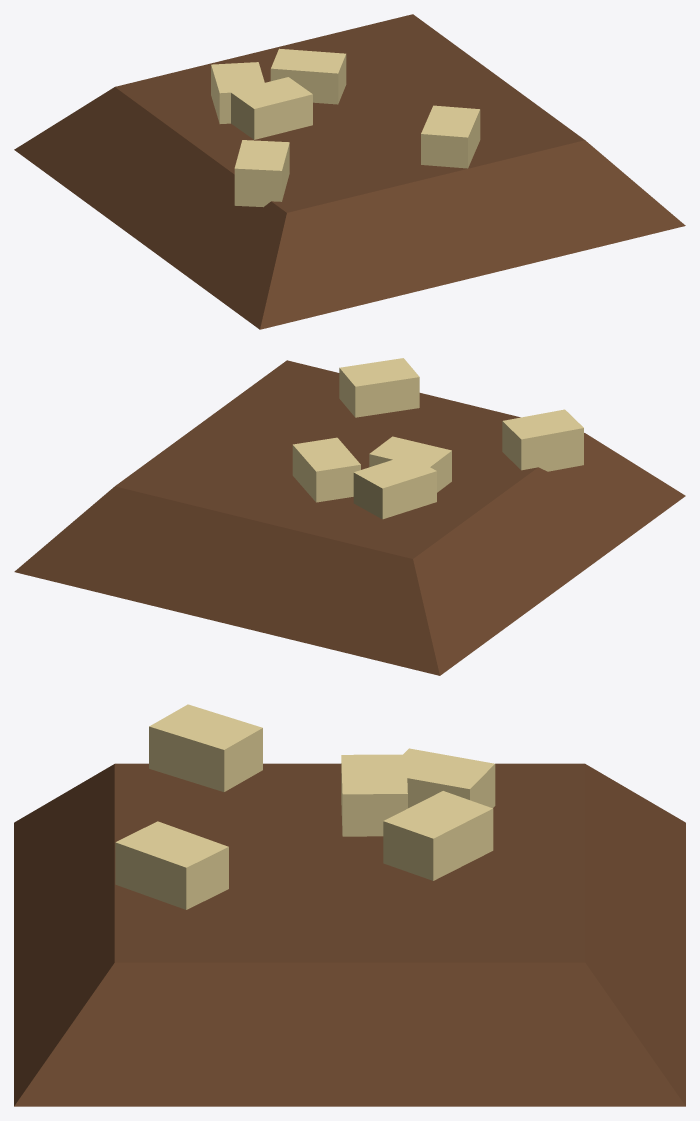
File: pumpkin_0.obj
The picture shows the model from 3 angles, top to bottom: view 1: azimuth 30°, elevation 25°; view 2: azimuth 150°, elevation 25°; view 3: azimuth 270°, elevation 25°; orthographic projection. The views are drawn at different scales.
Parts seen in each view (by area): view 1: plant; view 2: plant; view 3: plant.
Boxes of the visible parts, x1,y1,x2,y2 form: plant: (14,14,685,329); plant: (14,358,685,675); plant: (14,704,685,1106).
Size of the model in its own units: 0.36 by 0.085 by 0.36.
